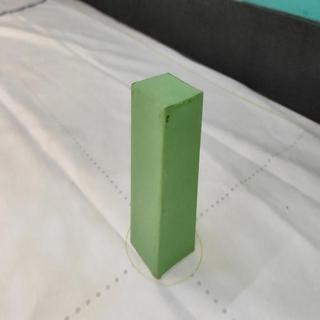greenbox: (129, 69, 206, 280)
